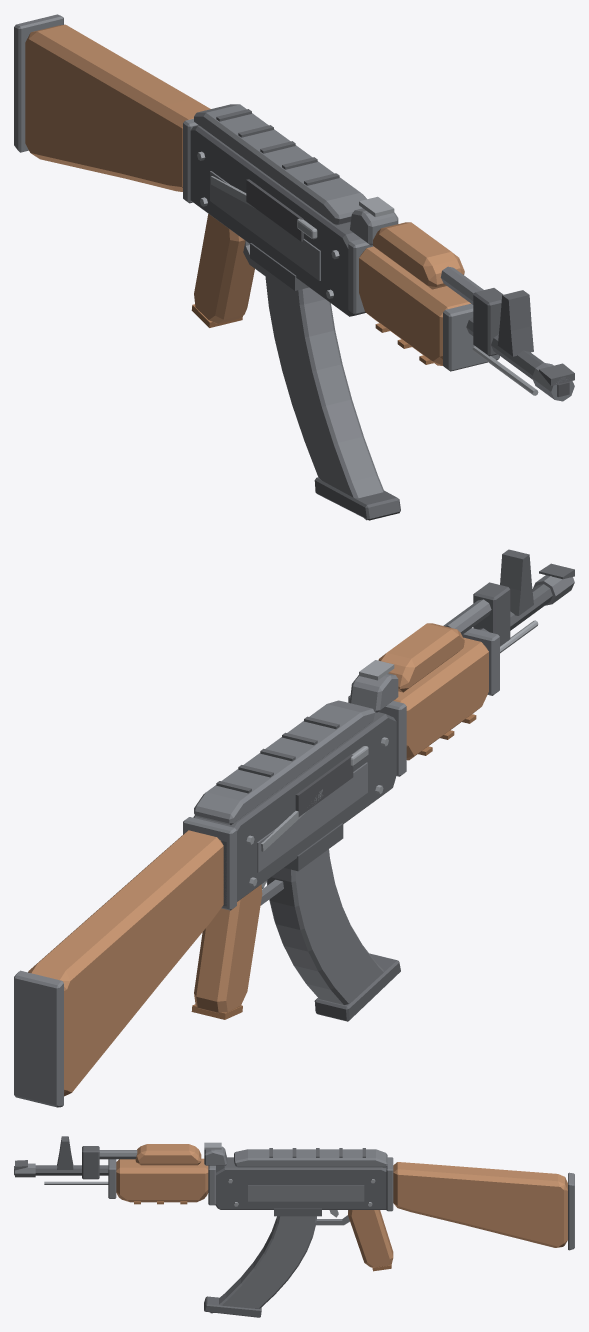
File: weapon_halberd_ar.fbx
3 renders of one model, top to bottom at view 1: azimuth 30°, elevation 25°; view 2: azimuth 150°, elevation 25°; view 3: azimuth 270°, elevation 25°, orthographic. The views are drawn at different scales.
Visible parts, largest first — view 1: weapon_halberd_ar; view 2: weapon_halberd_ar; view 3: weapon_halberd_ar.
Boxes of the visible parts, x1,y1,x2,y2 form: weapon_halberd_ar: (14, 14, 574, 520); weapon_halberd_ar: (14, 549, 574, 1107); weapon_halberd_ar: (14, 1136, 574, 1317).
Size of the model in its own units: 0.058 by 0.3318 by 0.964.
